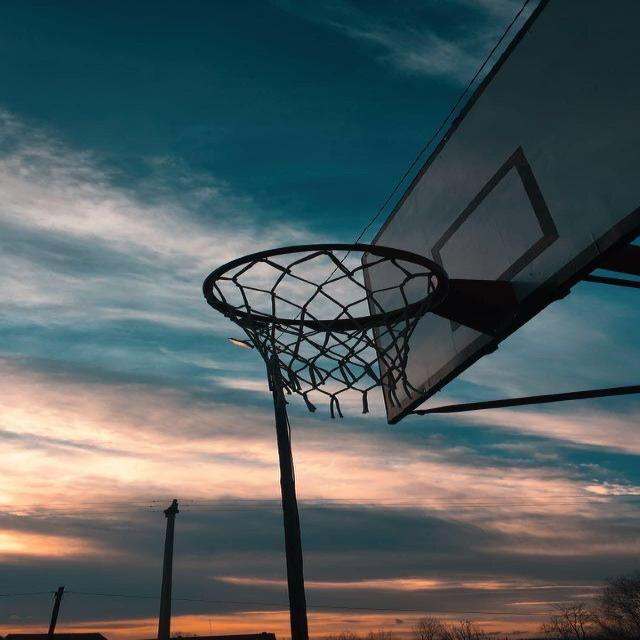hoop: (173, 250, 483, 418)
